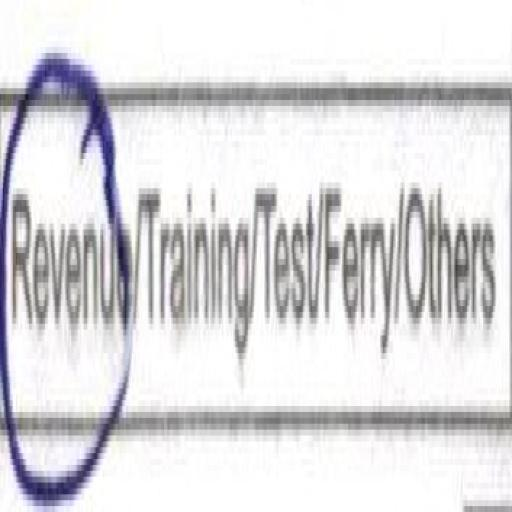check: (0, 28, 135, 507)
